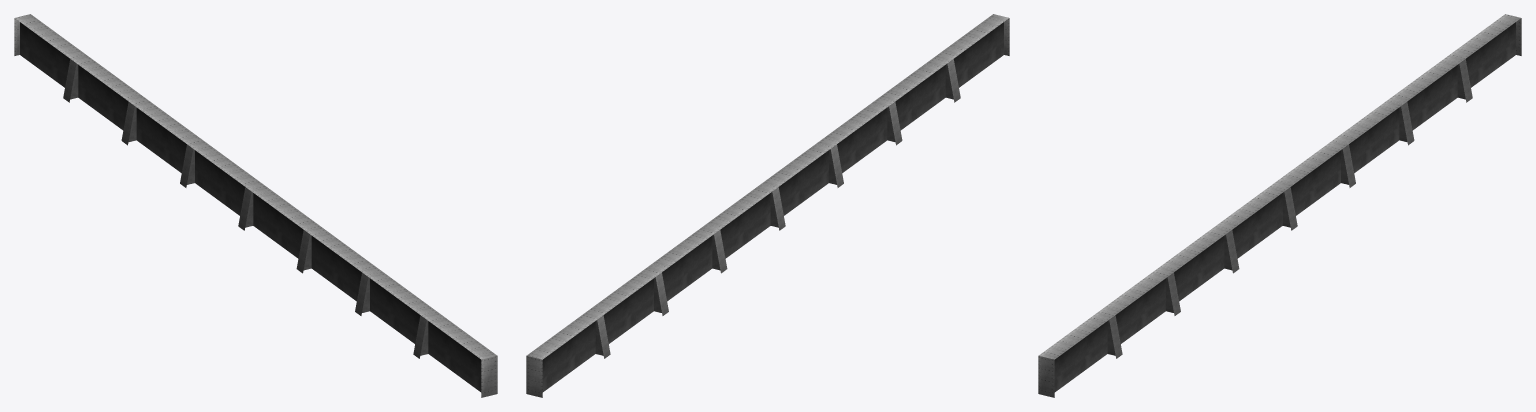
The model's file is AMB_BRIDGH_L_BLUE.glb.
3 views of the same model, side by side, from view 1: azimuth 30°, elevation 25°; view 2: azimuth 150°, elevation 25°; view 3: azimuth 330°, elevation 25° (orthographic).
Visible parts, largest first — view 1: Left; view 2: Left; view 3: Left.
Part boxes in pixels (x1,y1,x2,y2): Left: (14, 14, 497, 397); Left: (526, 14, 1009, 397); Left: (1038, 14, 1521, 397).
Size of the model in its own units: 1.8 by 2.26 by 50.
Materials: 2 (2 with a texture image).
